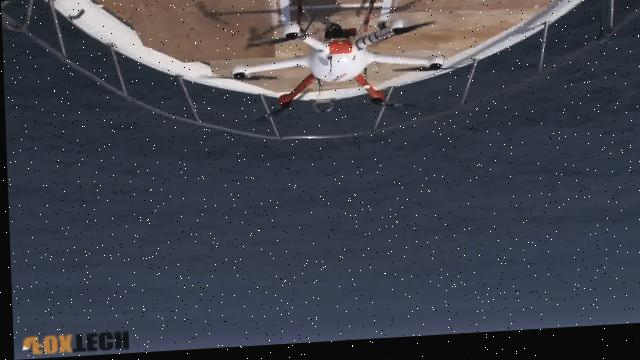drone: (0, 0, 640, 148)
